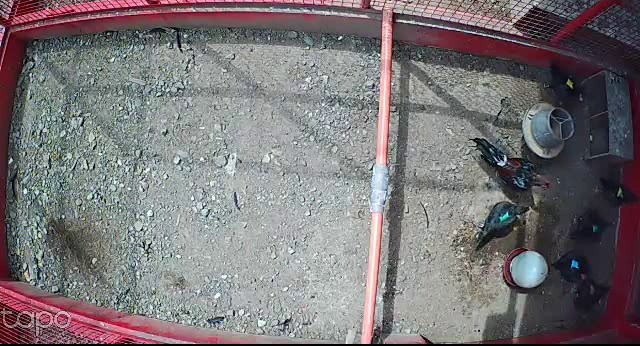Chicken: (474, 199, 533, 252), (541, 62, 588, 109), (591, 174, 640, 219), (563, 209, 619, 248), (548, 251, 595, 286), (572, 277, 613, 315)
Drinker: (501, 248, 549, 290)
Feeder: (520, 99, 575, 157)
Rooster: (466, 134, 552, 190)
Saddle_Color_Blue: (570, 260, 581, 269)
Saddle_Color_Yellow: (566, 77, 575, 88)
